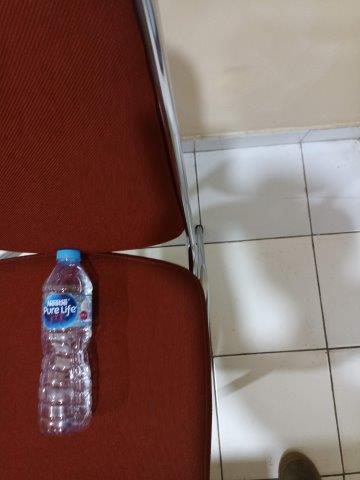botolplastik: (37, 248, 91, 436)
